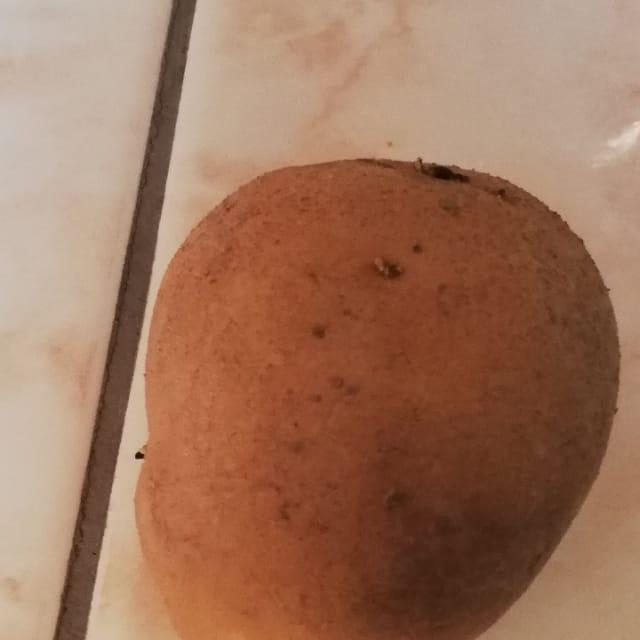potato: (112, 139, 632, 640)
